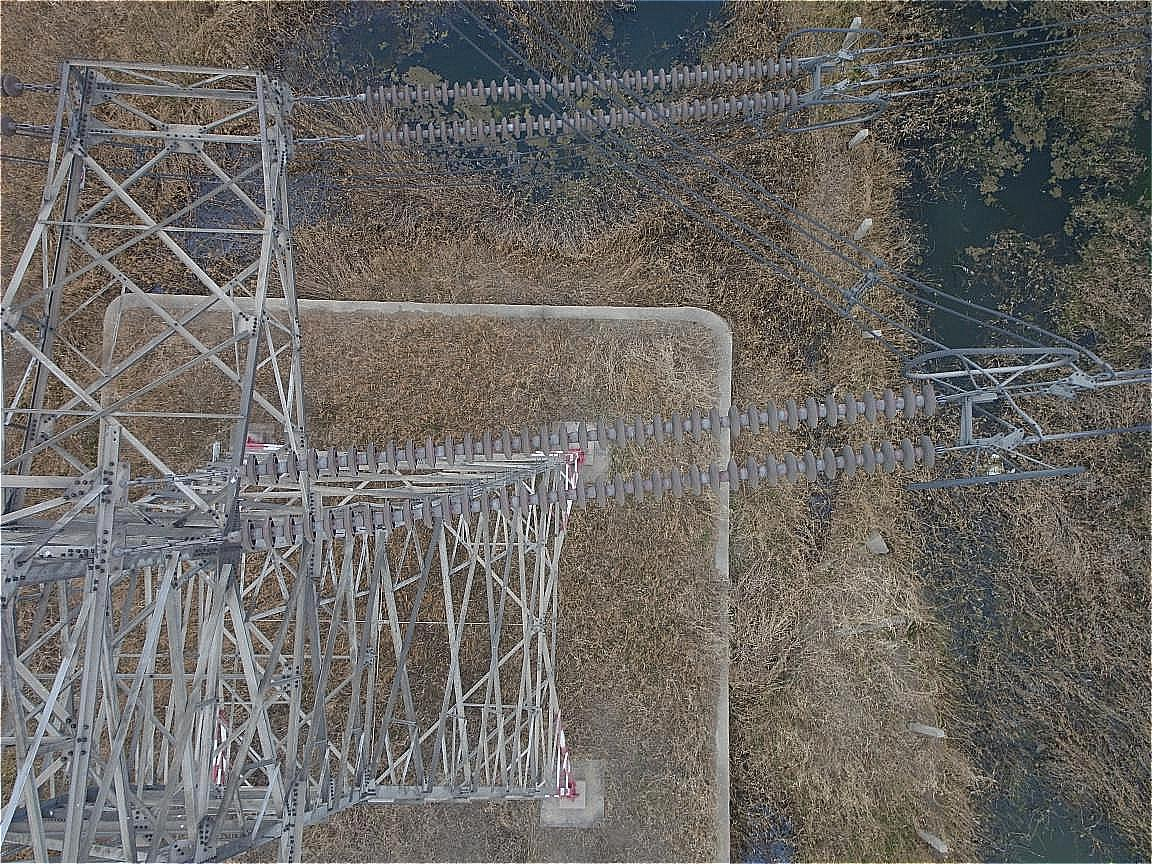insultor1: (223, 376, 970, 547), (347, 44, 814, 152)
